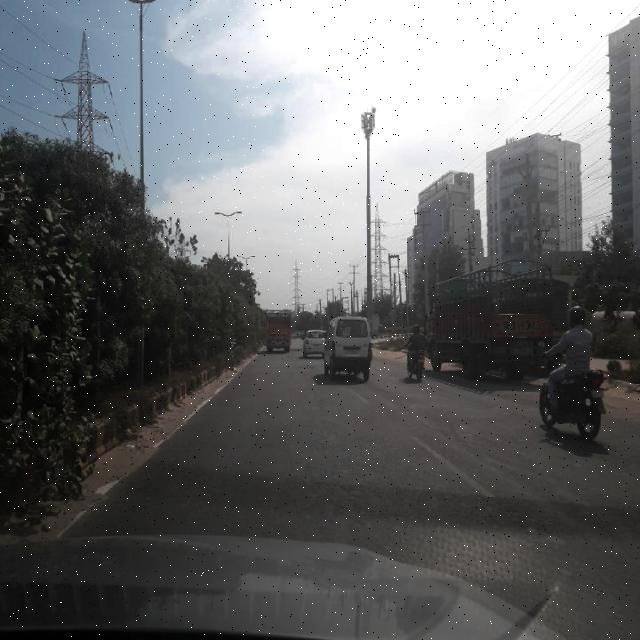D20: (284, 390, 590, 574), (118, 436, 268, 534)
D44: (404, 421, 498, 498)
